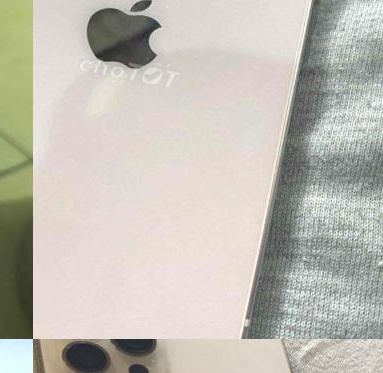scratch: (33, 0, 264, 114)
